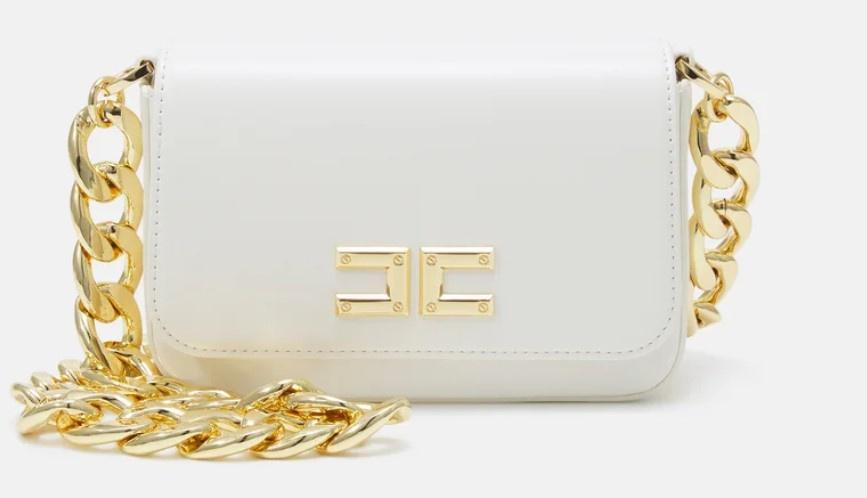ELISABETTA-FRANCHI: (325, 240, 506, 334)
